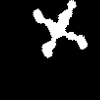single_crochet: (33, 0, 86, 57)
